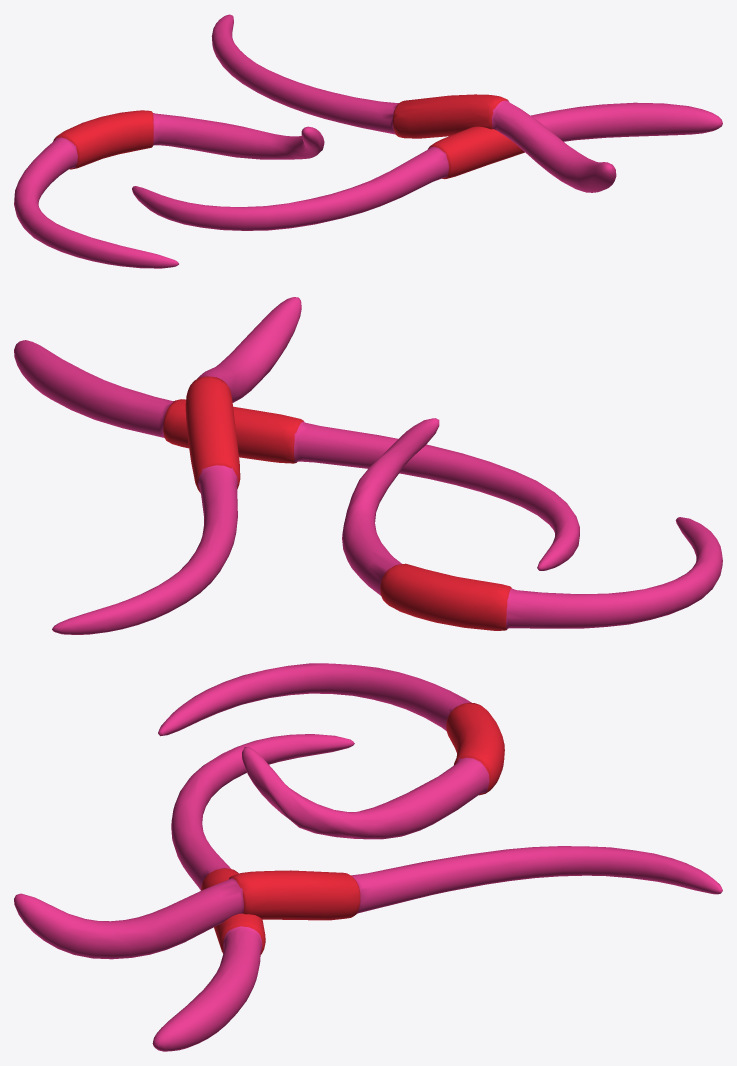
The model's file is worm .fbx.
3 views of the same model, one above another, from view 1: azimuth 30°, elevation 25°; view 2: azimuth 150°, elevation 25°; view 3: azimuth 270°, elevation 25° (orthographic). The views are drawn at different scales.
Visible parts, largest first — view 1: worms; view 2: worms; view 3: worms.
Part boxes in pixels (x1=…): worms: x1=14, y1=14, x2=722, y2=268; worms: x1=14, y1=297, x2=722, y2=634; worms: x1=14, y1=663, x2=722, y2=1051.
Bounding box in the file's own units: 20.22 × 2.29 × 16.2.
